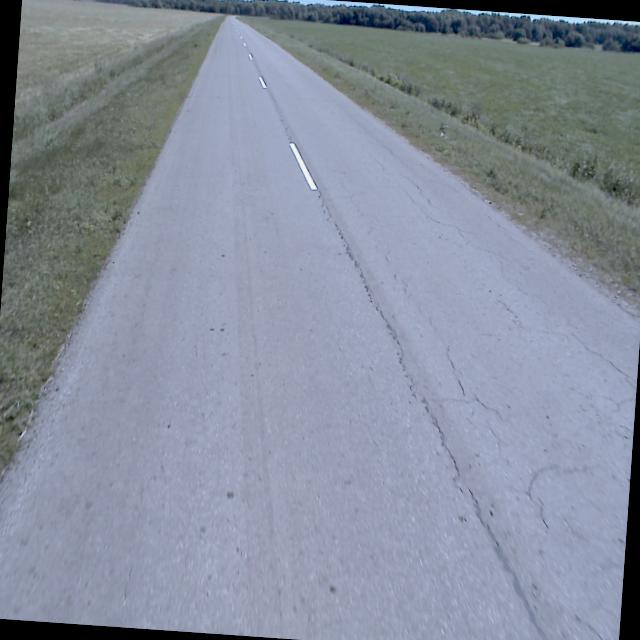road: (0, 15, 640, 640)
